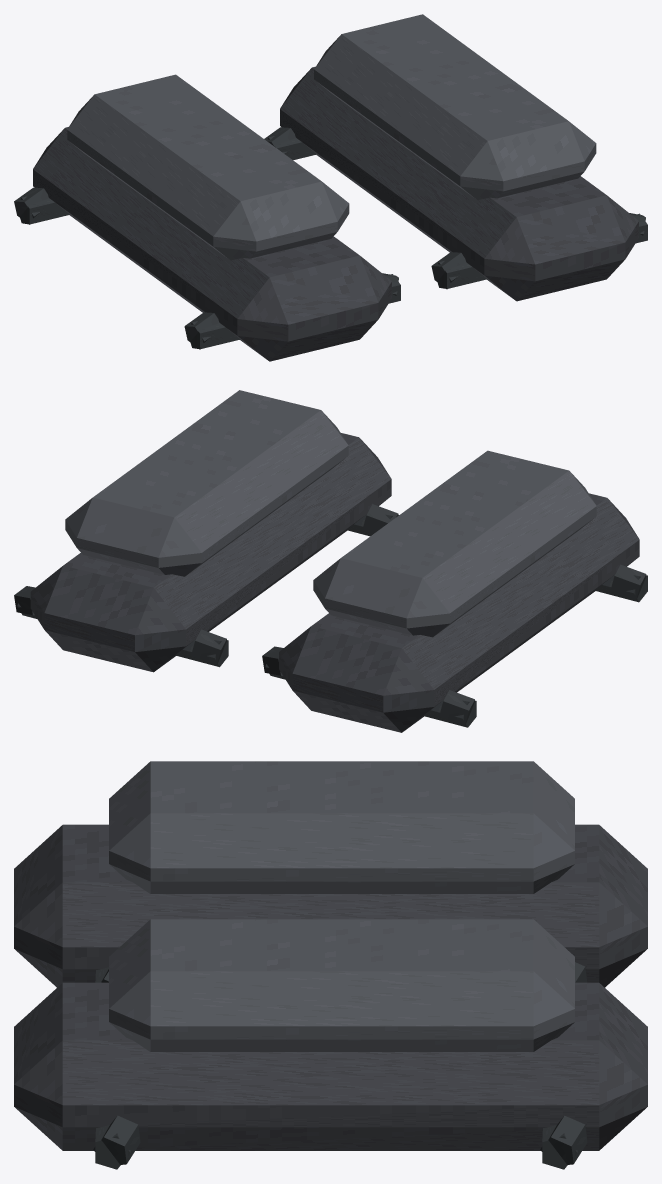
File: legguard_hard.glb
The picture shows the model from 3 angles, top to bottom: view 1: azimuth 30°, elevation 25°; view 2: azimuth 150°, elevation 25°; view 3: azimuth 270°, elevation 25°; orthographic projection. The views are drawn at different scales.
Visible parts, largest first — view 1: block_shaped guard (×2), block_padded backing (×2), block_adjustable strap 1 (×4), block_adjustable strap 0 (×3); view 2: block_shaped guard (×2), block_padded backing (×2), block_adjustable strap 0 (×4), block_adjustable strap 1 (×2); view 3: block_shaped guard (×2), block_padded backing (×2), block_adjustable strap 2 (×2), block_adjustable strap 1 (×2).
Part boxes in pixels (left/top/right/bottom): block_shaped guard (×2): left=67, top=14, right=596, bottom=260; block_padded backing (×2): left=33, top=66, right=638, bottom=361; block_adjustable strap 1 (×4): left=20, top=136, right=647, bottom=349; block_adjustable strap 0 (×3): left=14, top=187, right=466, bottom=342; block_shaped guard (×2): left=65, top=390, right=596, bottom=637; block_padded backing (×2): left=30, top=433, right=639, bottom=732; block_adjustable strap 0 (×4): left=191, top=504, right=646, bottom=725; block_adjustable strap 1 (×2): left=17, top=589, right=476, bottom=727; block_shaped guard (×2): left=109, top=761, right=574, bottom=1051; block_padded backing (×2): left=14, top=824, right=647, bottom=1150; block_adjustable strap 2 (×2): left=93, top=1115, right=587, bottom=1164; block_adjustable strap 1 (×2): left=95, top=1125, right=577, bottom=1169.
Size of the model in its own units: 0.3822 by 0.1081 by 0.3513.
1 material, 1 textured.
